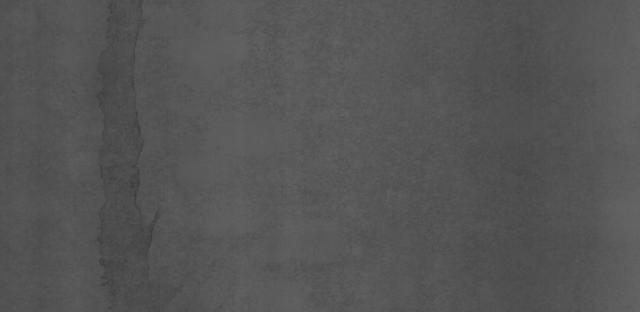water_spot: (80, 7, 174, 301)
